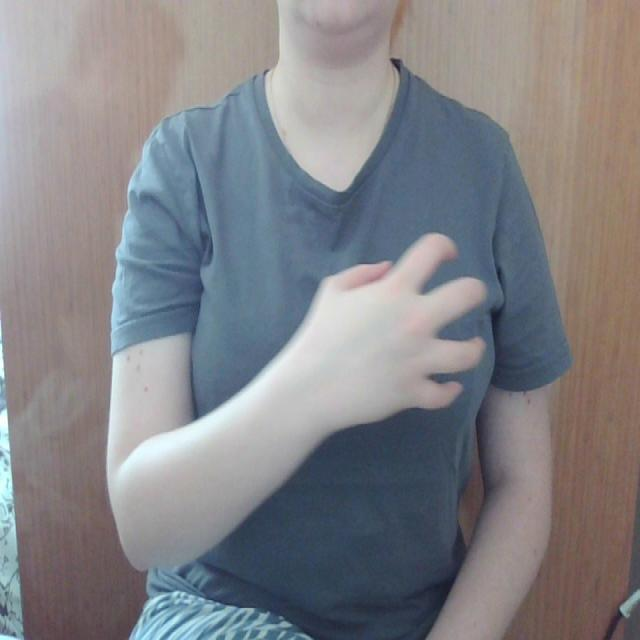Anne: (292, 227, 502, 419)
